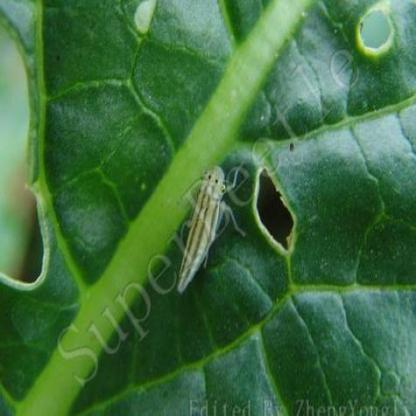Green-Leafhopper: (176, 165, 246, 299)
